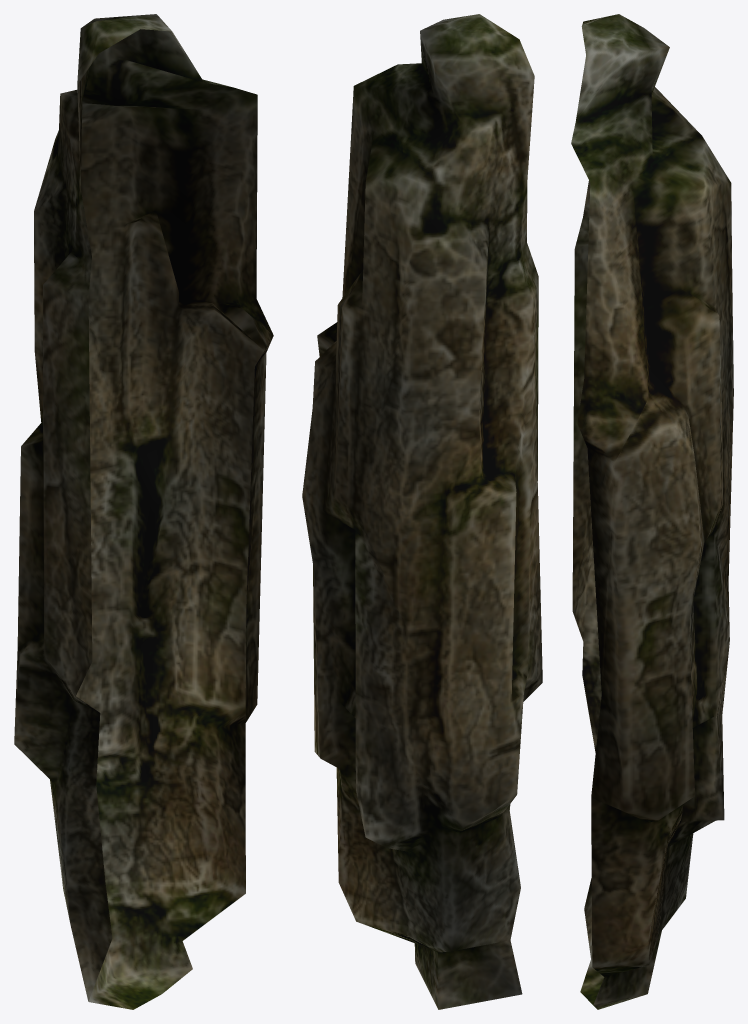
The model's file is MEP_Rock_04_a.fbx.
3 views of the same model, side by side, from view 1: azimuth 30°, elevation 25°; view 2: azimuth 150°, elevation 25°; view 3: azimuth 270°, elevation 25° (orthographic).
Parts seen in each view (by area): view 1: MEP_Rock_04_a; view 2: MEP_Rock_04_a; view 3: MEP_Rock_04_a.
Boxes of the visible parts, <box> form: MEP_Rock_04_a: <box>14,14,273,1009</box>; MEP_Rock_04_a: <box>302,14,542,1009</box>; MEP_Rock_04_a: <box>571,14,733,1009</box>.
Size of the model in its own units: 3.61 by 15.03 by 2.29.
